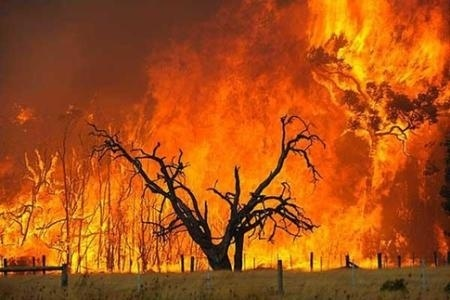fire: (25, 19, 450, 266)
